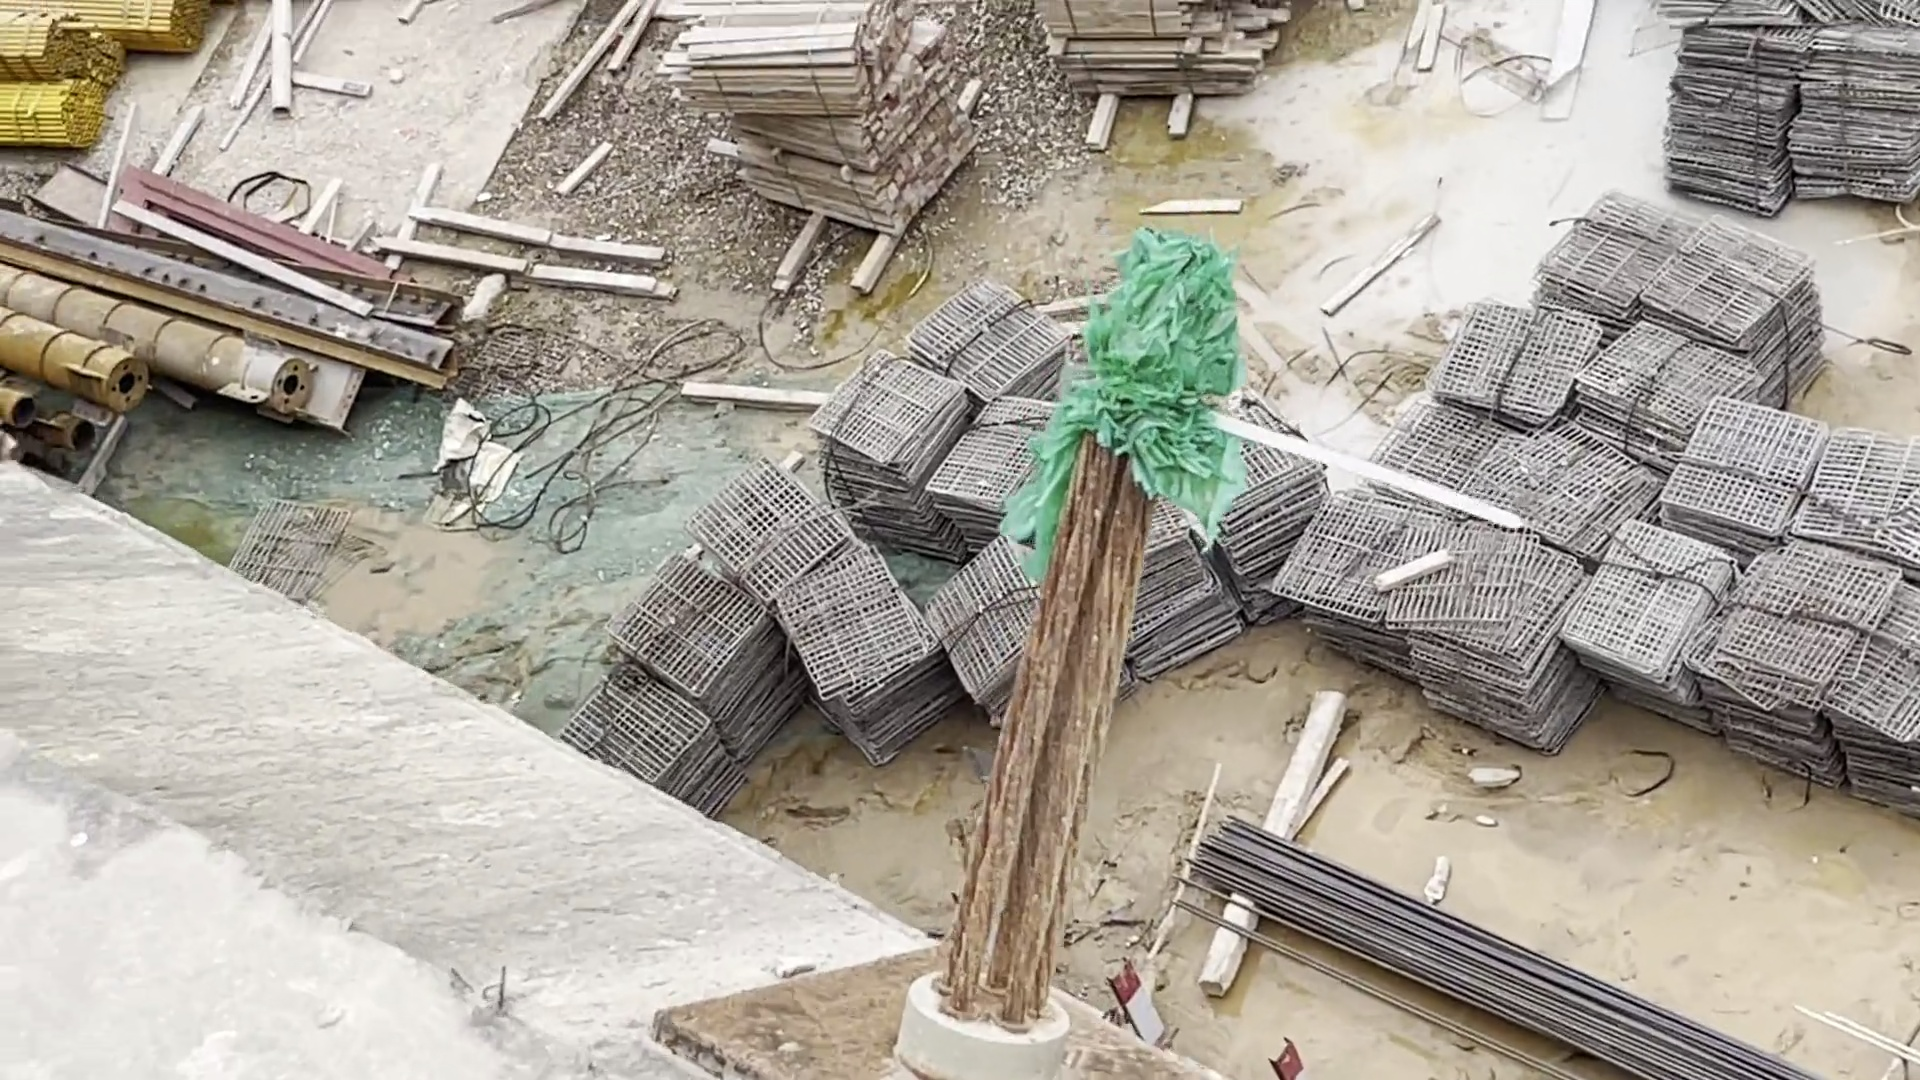rebar: (1185, 818, 1841, 1080)
wood: (666, 1, 982, 240), (1031, 1, 1287, 113)
